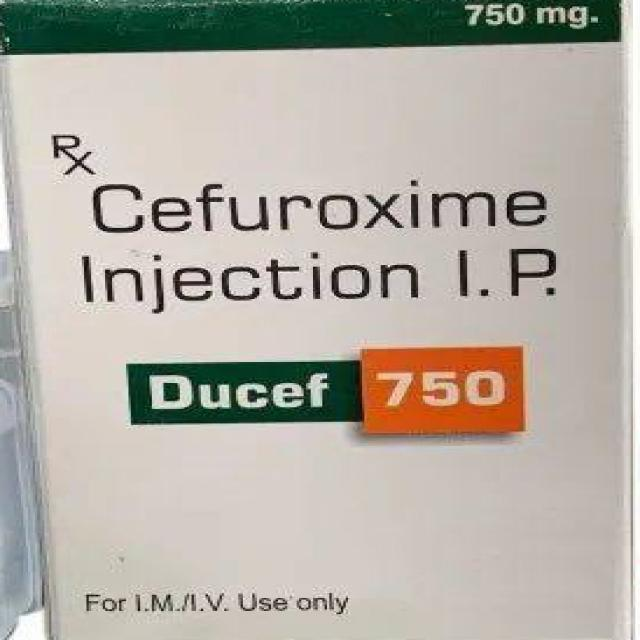drug-name: (136, 368, 512, 411)
